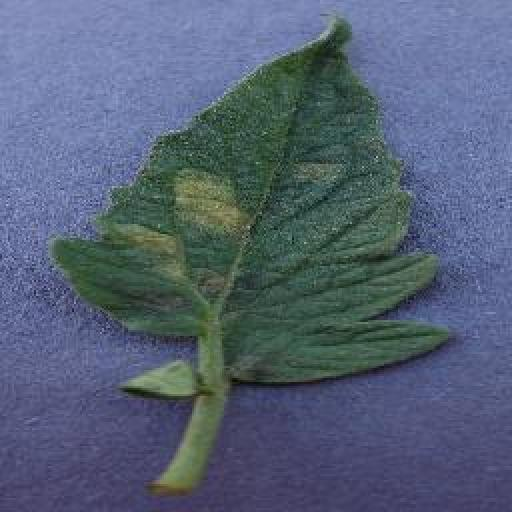disease_tomato: (54, 19, 455, 384)
